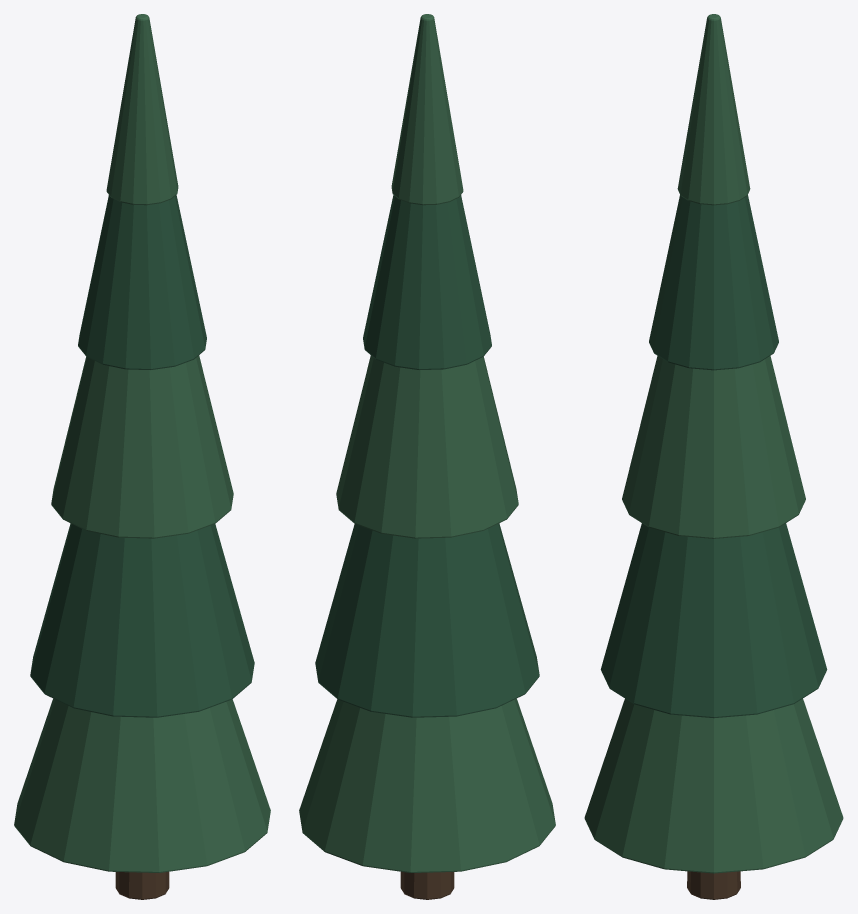
The model's file is Tree_AlleyCypress.fbx.
3 renders of one model, left to right at view 1: azimuth 30°, elevation 25°; view 2: azimuth 150°, elevation 25°; view 3: azimuth 270°, elevation 25°, orthographic.
Visible parts, largest first — view 1: Alley cypress foliage layer.005, Alley cypress foliage layer.006, Alley cypress foliage layer.007, Alley cypress foliage layer.008, Alley cypress foliage layer.009, Alley cypress trunk.001; view 2: Alley cypress foliage layer.005, Alley cypress foliage layer.006, Alley cypress foliage layer.007, Alley cypress foliage layer.008, Alley cypress foliage layer.009, Alley cypress trunk.001; view 3: Alley cypress foliage layer.005, Alley cypress foliage layer.006, Alley cypress foliage layer.007, Alley cypress foliage layer.008, Alley cypress foliage layer.009, Alley cypress trunk.001.
Boxes of the visible parts, left/top/right/bottom form: Alley cypress foliage layer.005: left=14, top=698, right=270, bottom=872; Alley cypress foliage layer.006: left=30, top=523, right=254, bottom=717; Alley cypress foliage layer.007: left=51, top=355, right=233, bottom=538; Alley cypress foliage layer.008: left=78, top=195, right=206, bottom=369; Alley cypress foliage layer.009: left=106, top=14, right=178, bottom=205; Alley cypress trunk.001: left=115, top=871, right=169, bottom=899; Alley cypress foliage layer.005: left=299, top=698, right=555, bottom=872; Alley cypress foliage layer.006: left=315, top=523, right=539, bottom=717; Alley cypress foliage layer.007: left=336, top=355, right=518, bottom=538; Alley cypress foliage layer.008: left=363, top=195, right=491, bottom=369; Alley cypress foliage layer.009: left=391, top=14, right=463, bottom=205; Alley cypress trunk.001: left=400, top=871, right=454, bottom=899; Alley cypress foliage layer.005: left=584, top=698, right=843, bottom=873; Alley cypress foliage layer.006: left=600, top=523, right=827, bottom=718; Alley cypress foliage layer.007: left=622, top=356, right=805, bottom=538; Alley cypress foliage layer.008: left=649, top=195, right=778, bottom=370; Alley cypress foliage layer.009: left=677, top=14, right=750, bottom=205; Alley cypress trunk.001: left=687, top=871, right=740, bottom=899.
Size of the model in its own units: 2.69 by 10 by 2.69.
